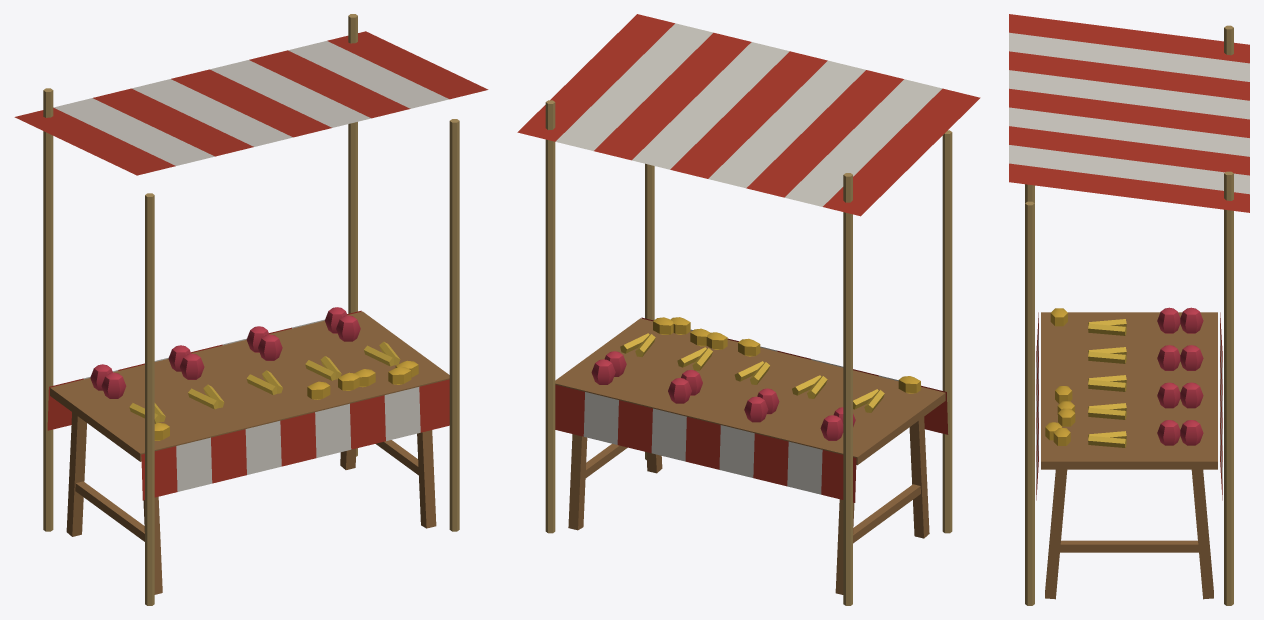
File: sap_trai.glb
The picture shows the model from 3 angles, left to right: view 1: azimuth 30°, elevation 25°; view 2: azimuth 150°, elevation 25°; view 3: azimuth 270°, elevation 25°; orthographic projection. The views are drawn at different scales.
Parts seen in each view (by area): view 1: sap_trai; view 2: sap_trai; view 3: sap_trai.
Boxes of the visible parts, <box> form: sap_trai: <box>14,14,488,605</box>; sap_trai: <box>517,14,980,605</box>; sap_trai: <box>1009,14,1249,605</box>.
Size of the model in its own units: 1.8 by 2.16 by 1.09.
